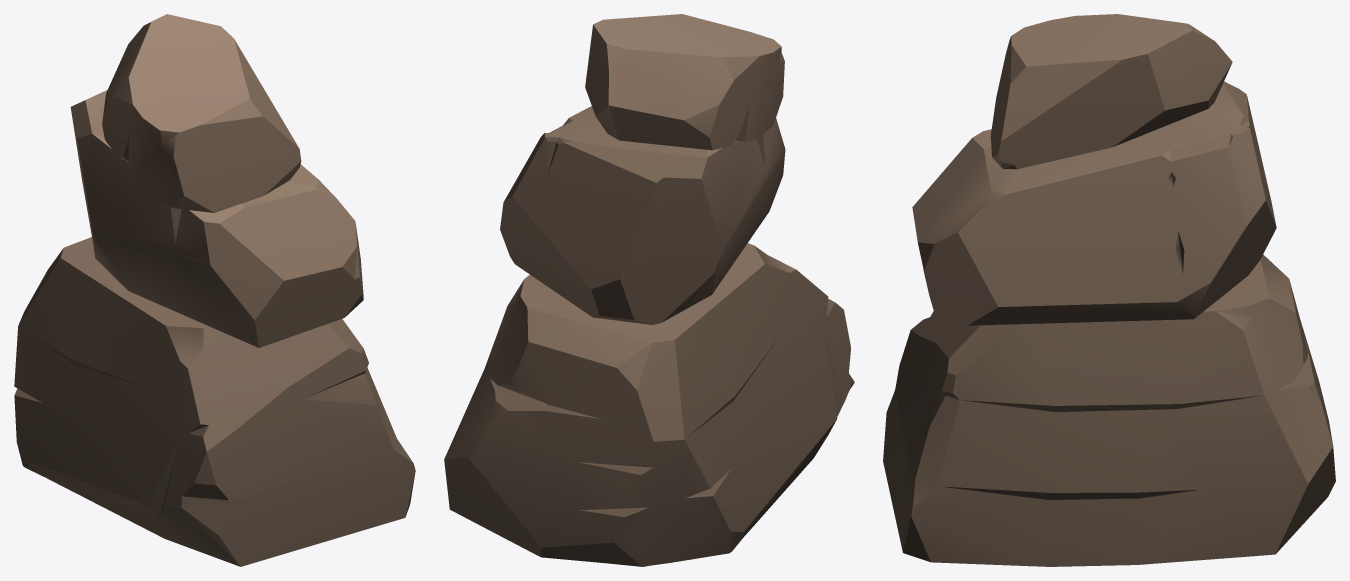
Rendered from Rock_Boulder_1A.fbx.
The picture shows the model from 3 angles, left to right: view 1: azimuth 30°, elevation 25°; view 2: azimuth 150°, elevation 25°; view 3: azimuth 270°, elevation 25°; orthographic projection. The views are drawn at different scales.
Parts seen in each view (by area): view 1: Rock_Boulder_1A; view 2: Rock_Boulder_1A; view 3: Rock_Boulder_1A.
Boxes of the visible parts, left/top/right/bottom form: Rock_Boulder_1A: left=14, top=14, right=415, bottom=566; Rock_Boulder_1A: left=444, top=14, right=854, bottom=566; Rock_Boulder_1A: left=883, top=14, right=1335, bottom=566.
Bounding box in the file's own units: 832 × 1299 × 1142.
